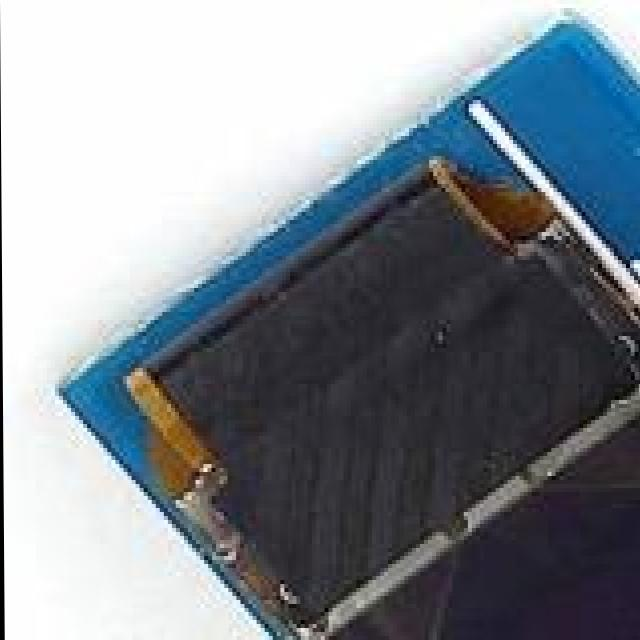display: (147, 157, 640, 640)
